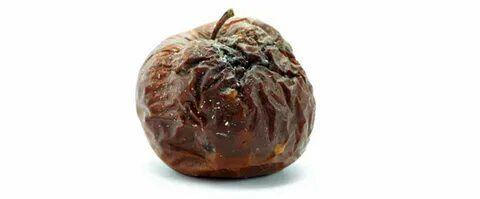Apple: (136, 19, 314, 180)
